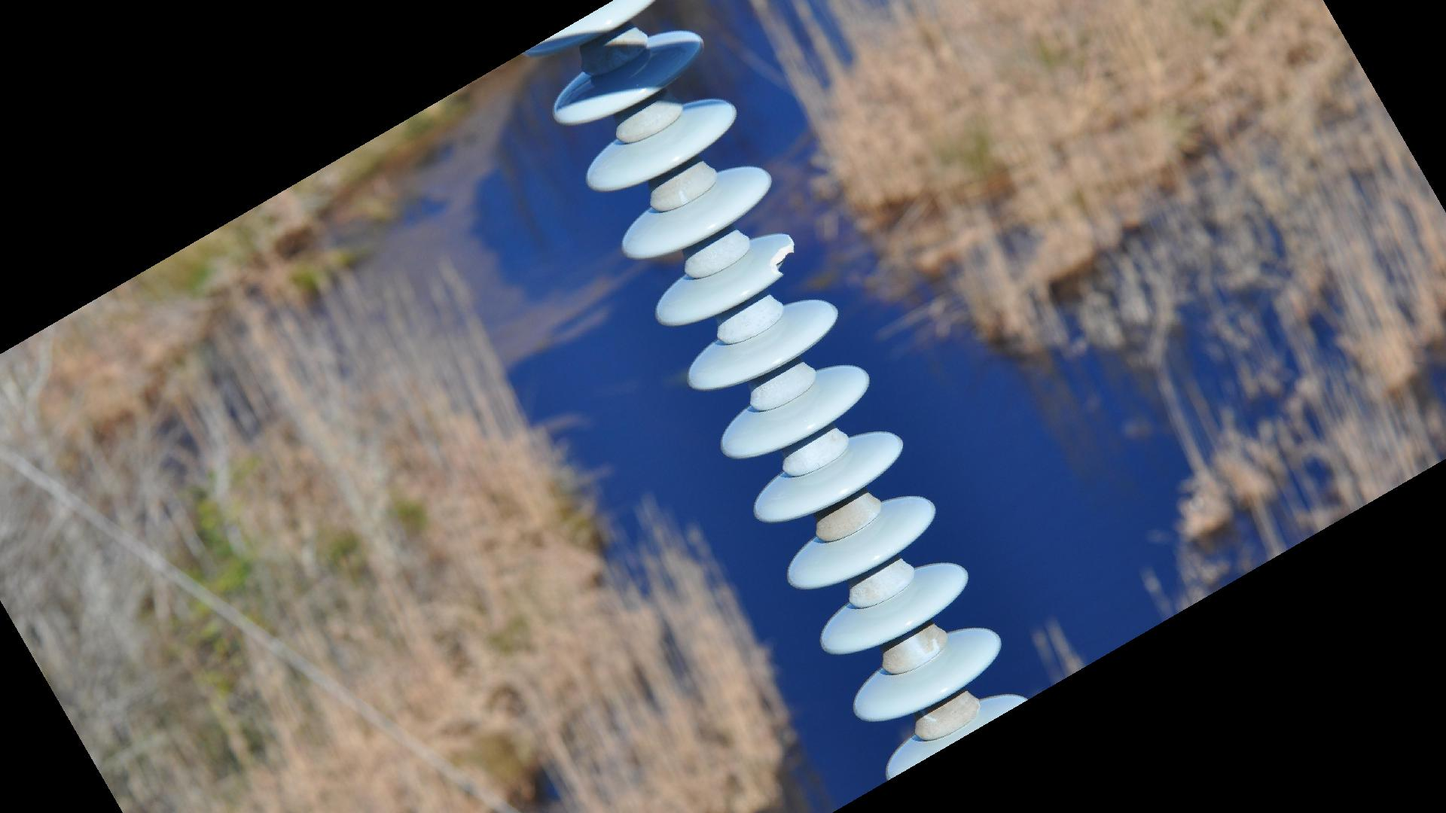insulator: (518, 1, 1041, 786)
insulator_breakage: (765, 228, 801, 283)
